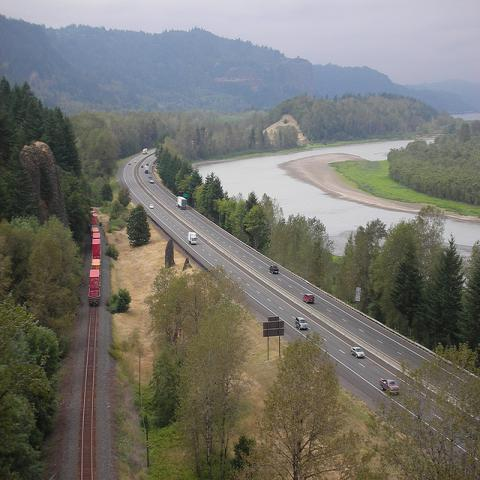car: (295, 316, 308, 330), (351, 347, 365, 358), (302, 293, 315, 304), (269, 264, 279, 274), (150, 205, 154, 213), (128, 162, 131, 165), (142, 165, 144, 168), (134, 160, 137, 162)
truck: (380, 379, 400, 395), (175, 196, 187, 210), (188, 232, 196, 245), (142, 146, 149, 156), (148, 176, 154, 183), (145, 163, 148, 174)
